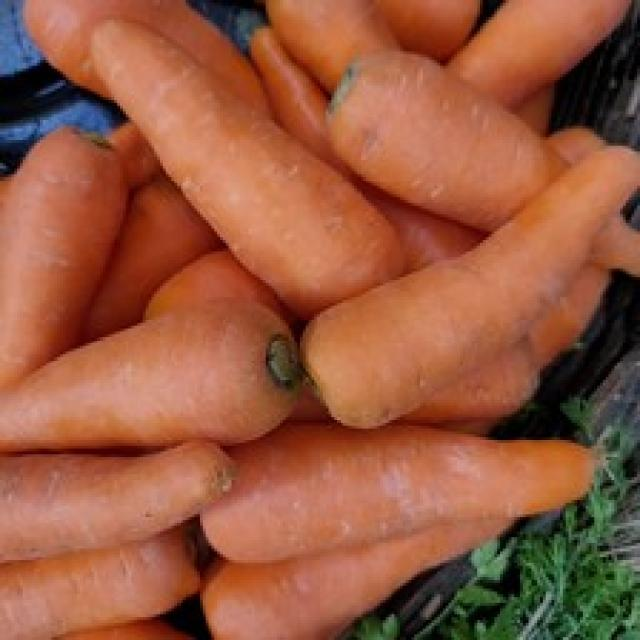Fresh_Carrot: (282, 147, 638, 418), (79, 21, 358, 284), (222, 428, 630, 534), (7, 140, 79, 398)
